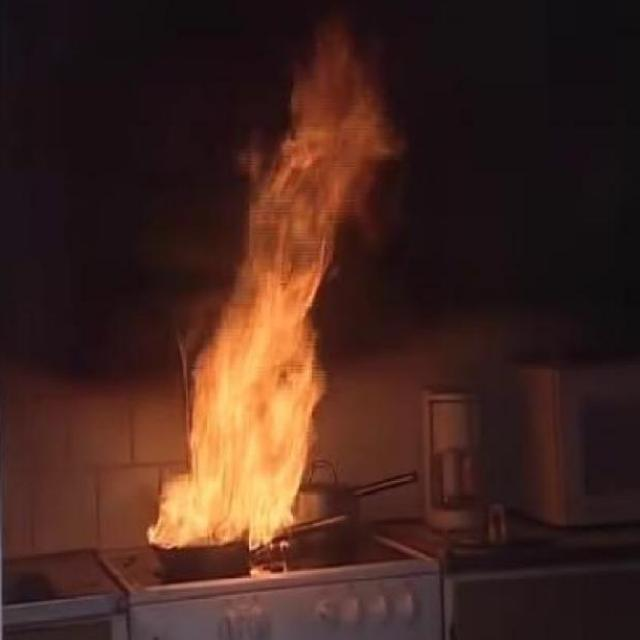fire: (0, 0, 247, 382), (388, 0, 640, 322)
smoke: (146, 272, 328, 547)
